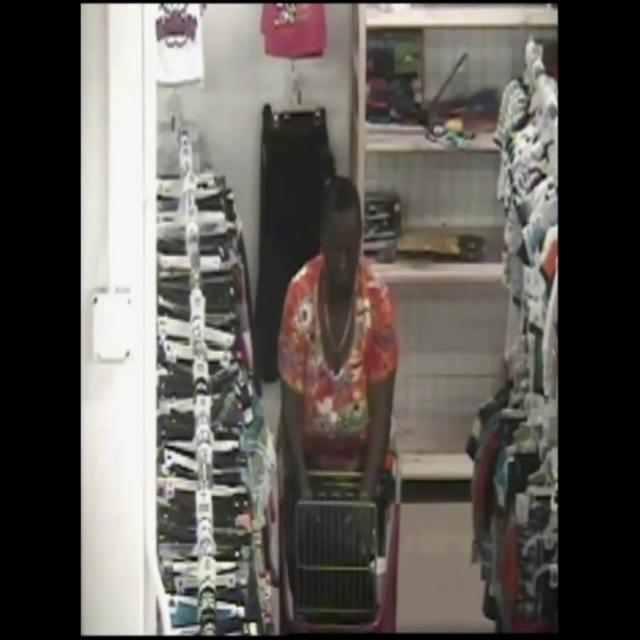shoplifting: (246, 166, 436, 570)
